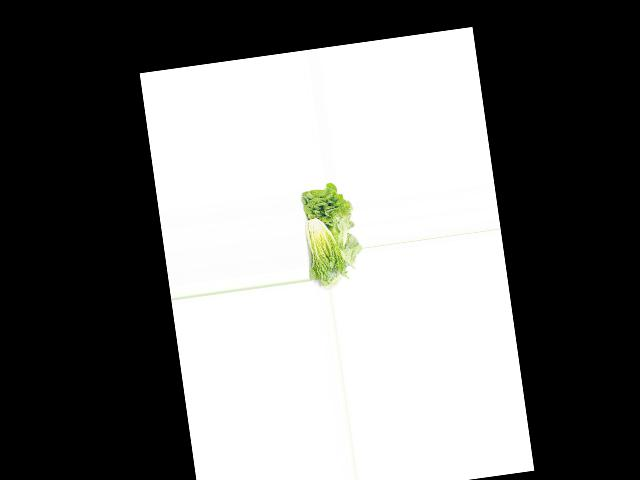lettuce: (296, 182, 357, 250)
